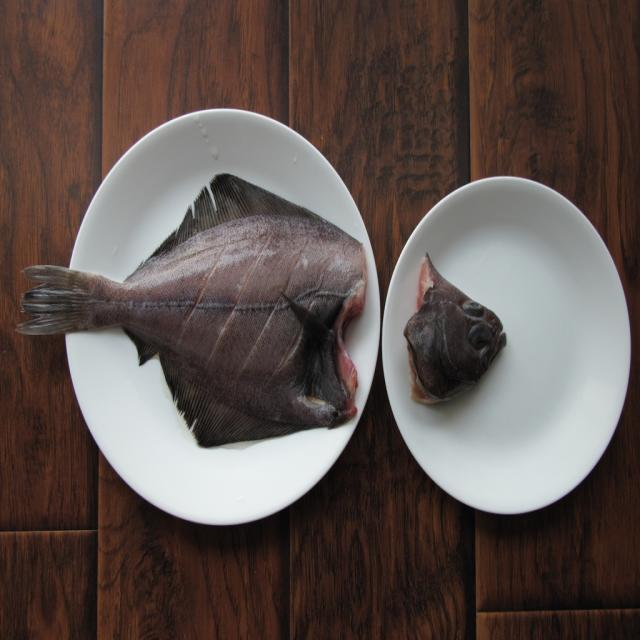non-organic waste: (43, 70, 386, 518), (373, 150, 634, 507)
